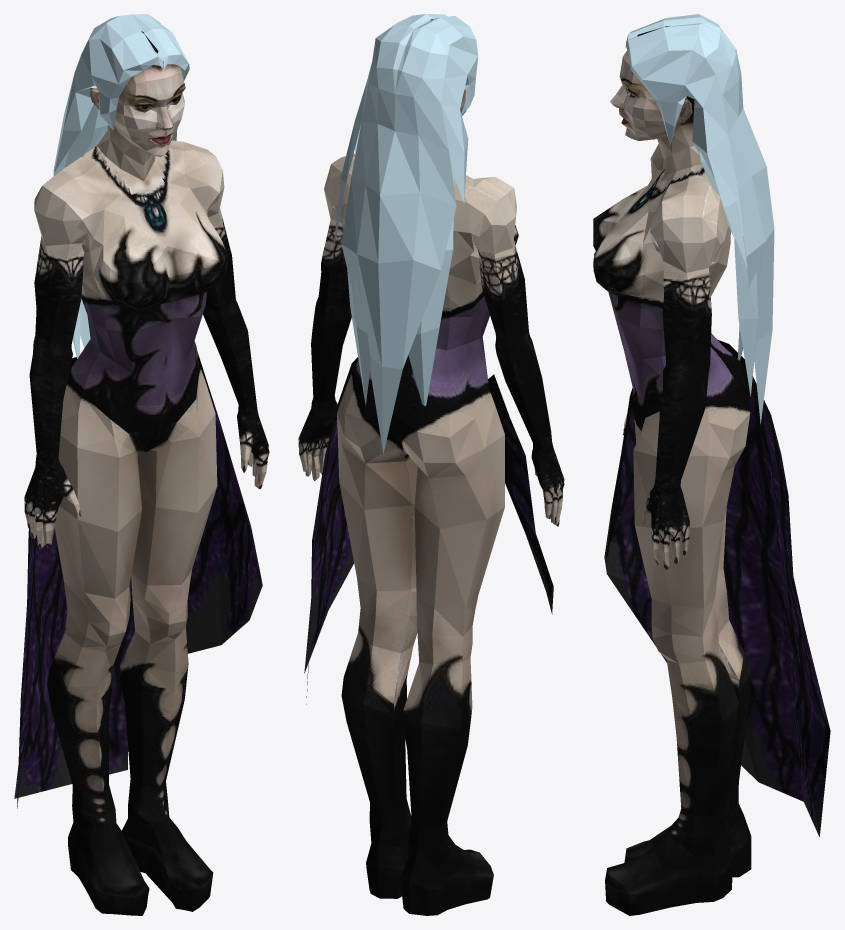
Rendered from running_001.obj.
3 renders of one model, left to right at view 1: azimuth 30°, elevation 25°; view 2: azimuth 150°, elevation 25°; view 3: azimuth 270°, elevation 25°, orthographic.
Parts seen in each view (by area): view 1: Plane.001_Plane.007, Plane.003_Plane.008, capelli.001_Plane.006; view 2: Plane.001_Plane.007, capelli.001_Plane.006, Plane.003_Plane.008; view 3: Plane.001_Plane.007, Plane.003_Plane.008, capelli.001_Plane.006.
Boxes of the visible parts, <box> form: Plane.001_Plane.007: <box>24,31,269,915</box>; Plane.003_Plane.008: <box>14,351,262,808</box>; capelli.001_Plane.006: <box>53,14,189,358</box>; Plane.001_Plane.007: <box>298,19,564,915</box>; capelli.001_Plane.006: <box>333,14,478,453</box>; Plane.003_Plane.008: <box>304,357,553,704</box>; Plane.001_Plane.007: <box>593,26,751,915</box>; Plane.003_Plane.008: <box>604,339,830,836</box>; capelli.001_Plane.006: <box>625,14,774,423</box>.
Bounding box in the file's own units: 1.65 × 5.59 × 1.38.
